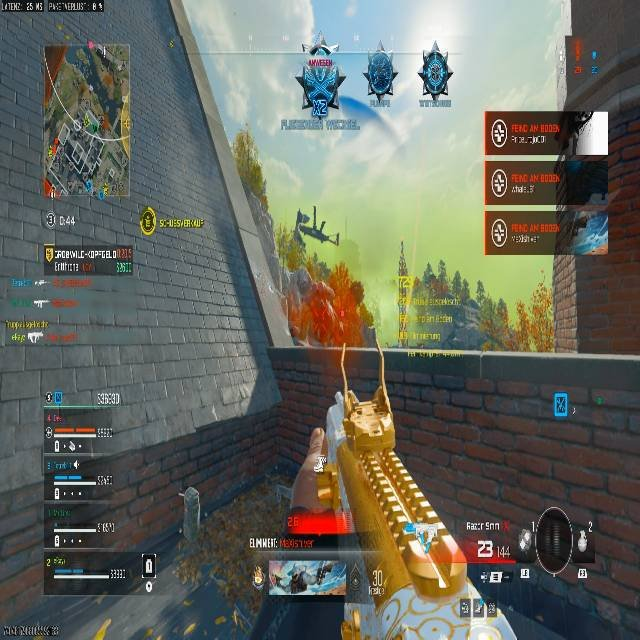head: (307, 42, 331, 64)
player: (294, 36, 346, 118), (417, 46, 451, 104), (364, 50, 396, 106)
